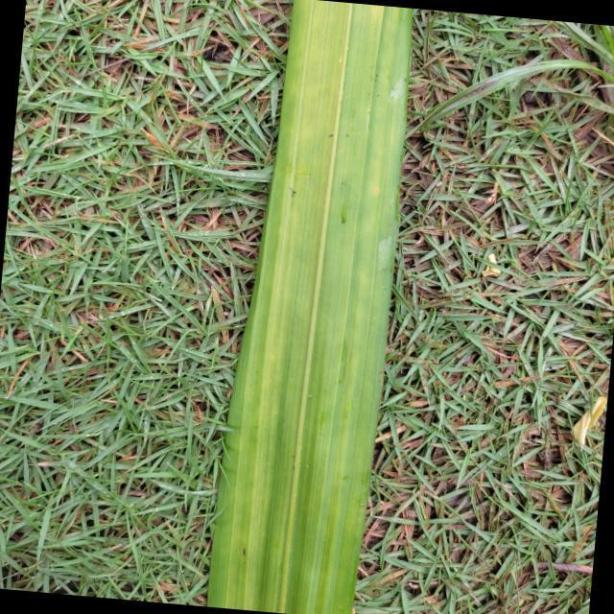nitrogen: (211, 0, 414, 614)
